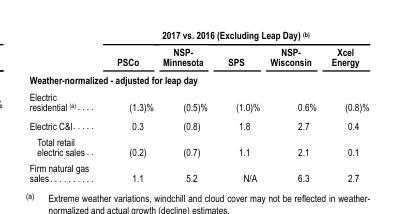table: (28, 28, 368, 183)
table column: (28, 28, 102, 183), (157, 28, 217, 183), (264, 28, 323, 183), (102, 28, 157, 183), (217, 28, 264, 183), (323, 28, 368, 183)
table column header: (28, 28, 368, 70)
table projected row header: (28, 70, 368, 87)
table row: (28, 42, 368, 70), (28, 87, 368, 115), (28, 133, 368, 159), (28, 159, 368, 183), (28, 115, 368, 133), (28, 70, 368, 87), (28, 28, 368, 42)
table spanning cell: (102, 28, 368, 42)
